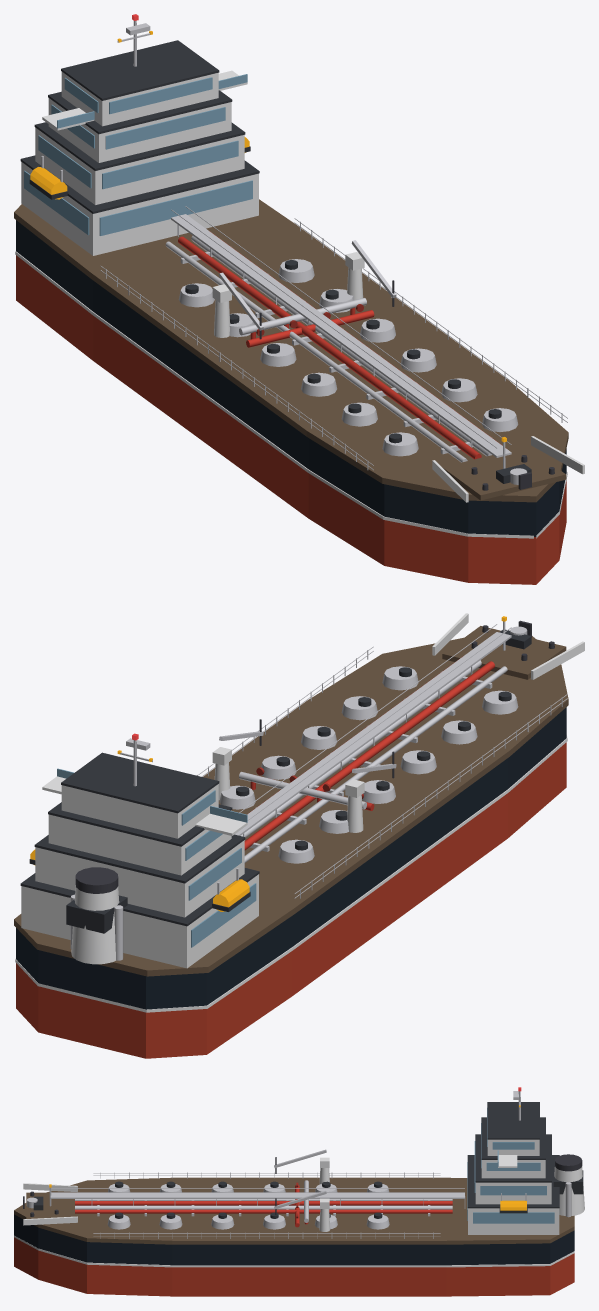
Rendered from navio.glb.
The picture shows the model from 3 angles, top to bottom: view 1: azimuth 30°, elevation 25°; view 2: azimuth 150°, elevation 25°; view 3: azimuth 270°, elevation 25°; orthographic projection. The views are drawn at different scales.
Size of what is drawn, in the model's own units: 24.49 by 32.15 by 93.7.
